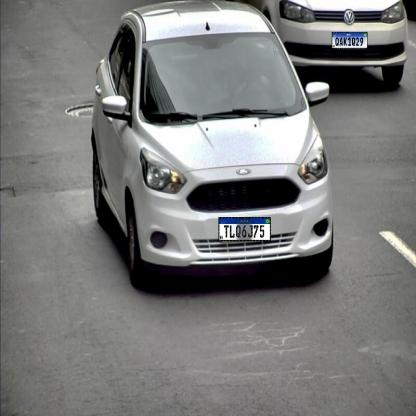PlacaM: (218, 217, 271, 241), (332, 32, 367, 48)
